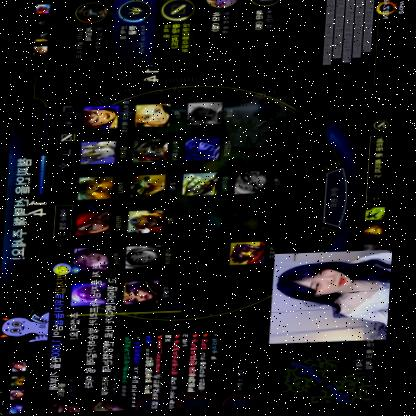donation: (0, 261, 124, 391)
streamer: (279, 255, 396, 333)
